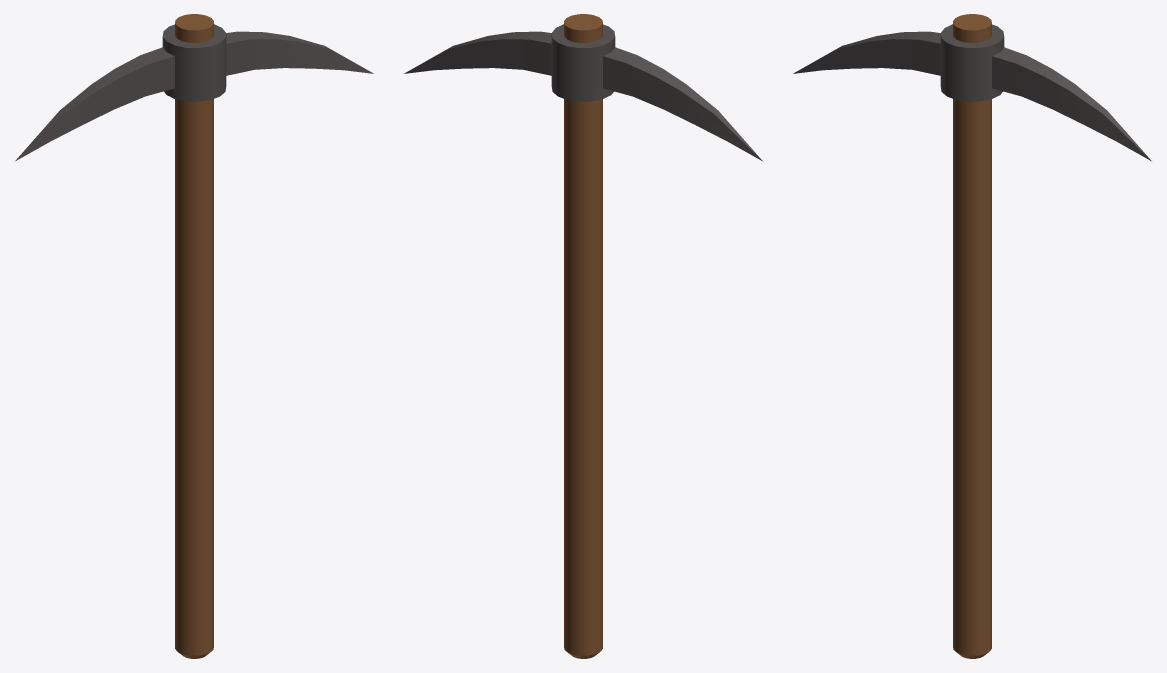
The model's file is 11fdf591-93e5-4a93-b467-c2bf4e1a29b4.glb.
3 views of the same model, side by side, from view 1: azimuth 30°, elevation 25°; view 2: azimuth 150°, elevation 25°; view 3: azimuth 330°, elevation 25° (orthographic).
Parts seen in each view (by area): view 1: Pickaxe - 384; view 2: Pickaxe - 384; view 3: Pickaxe - 384.
Boxes of the visible parts, x1,y1,x2,y2 form: Pickaxe - 384: [15, 14, 373, 658]; Pickaxe - 384: [404, 14, 762, 658]; Pickaxe - 384: [793, 14, 1151, 658].
Size of the model in its own units: 0.4219 by 0.7067 by 0.065.
Materials: 1 (1 with a texture image).
